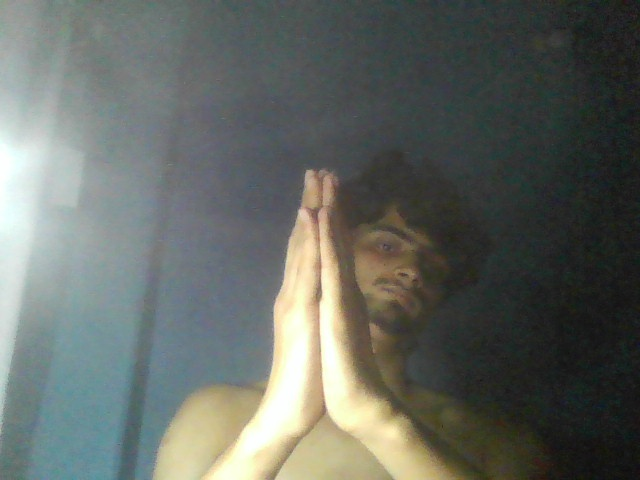ThankYou: (243, 163, 399, 438)
